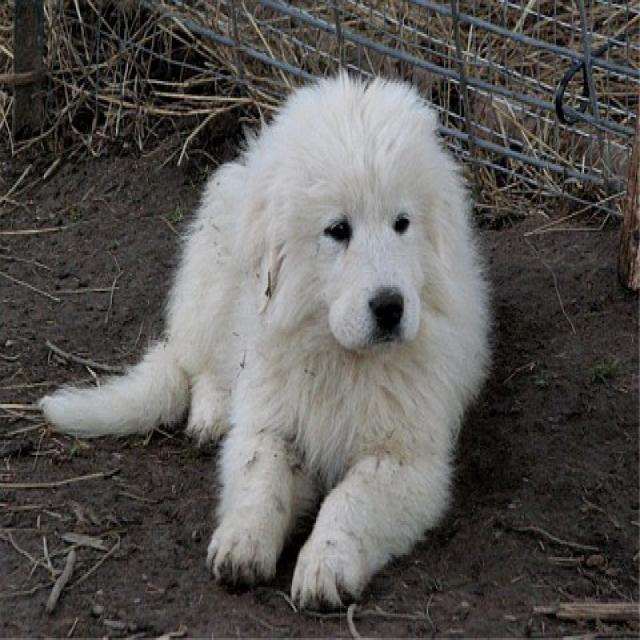dog-great_pyrenees: (28, 68, 499, 615)
